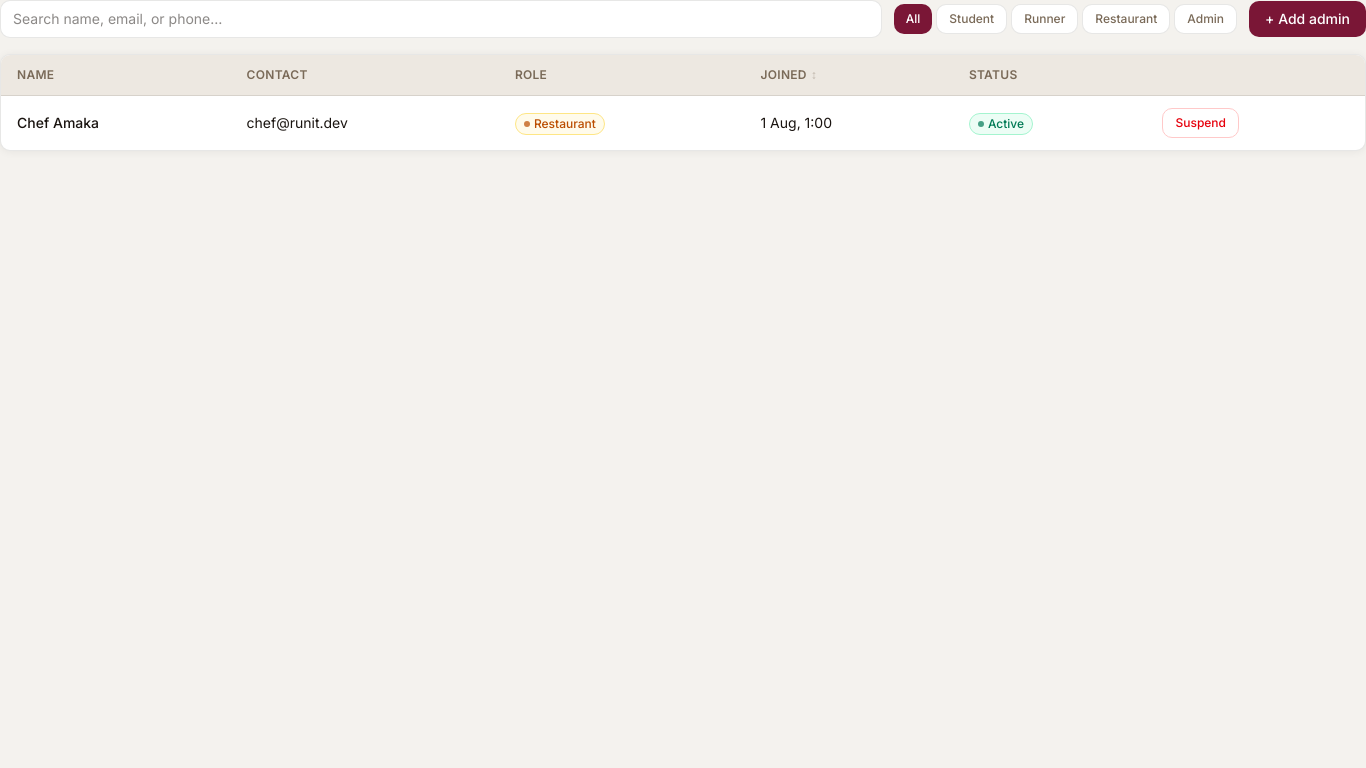
it: Users suspend/reinstate action › suspending requires a reason and posts it, then only updates the row after the response resolves
Click the button "Suspend" at (1201, 123), box [1162,108,1239,138]
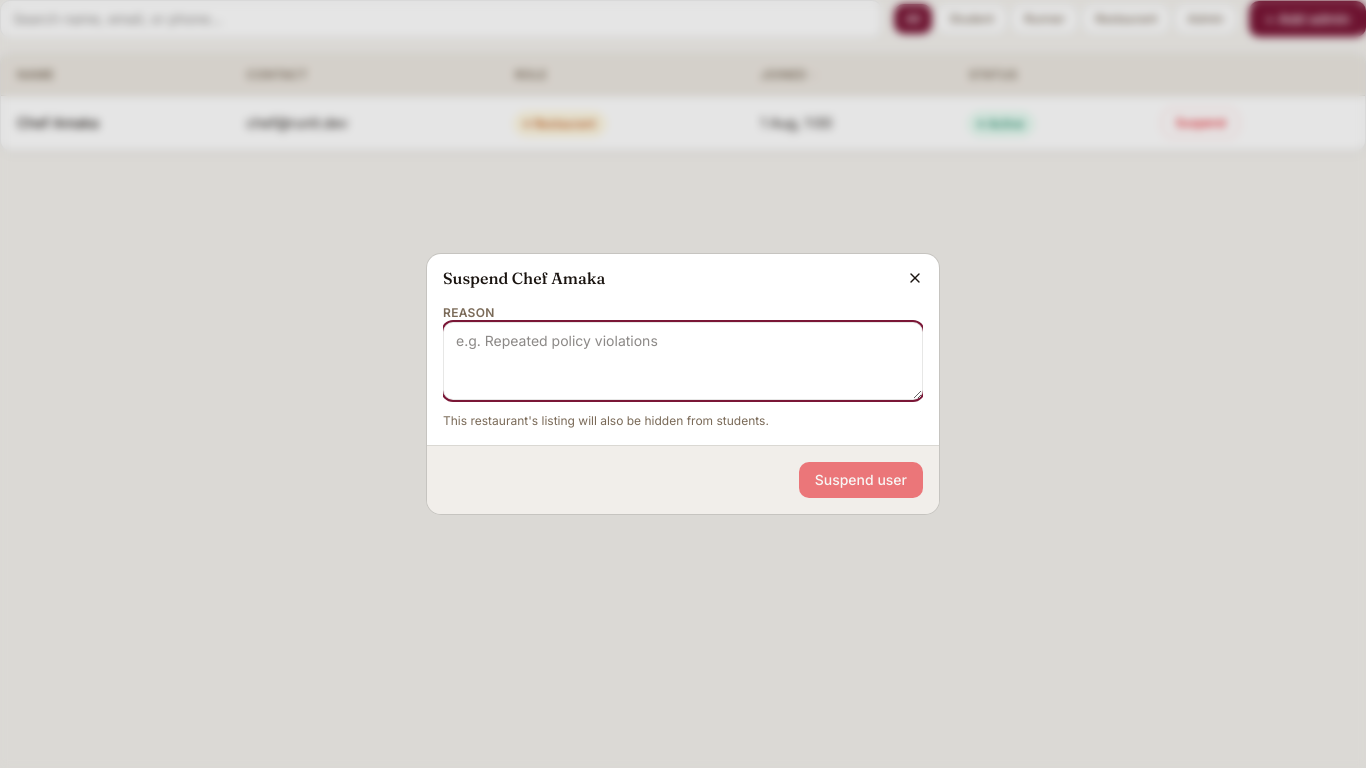
Expected: the button "Suspend user" is disabled, [799,462,923,498]
Expected: the text "This restaurant's listing will also be hidden from students." is shown, [443,413,769,428]
Type "Repeated policy violations" into the text box labelled "Reason" at (683, 361), box [443,322,923,400]
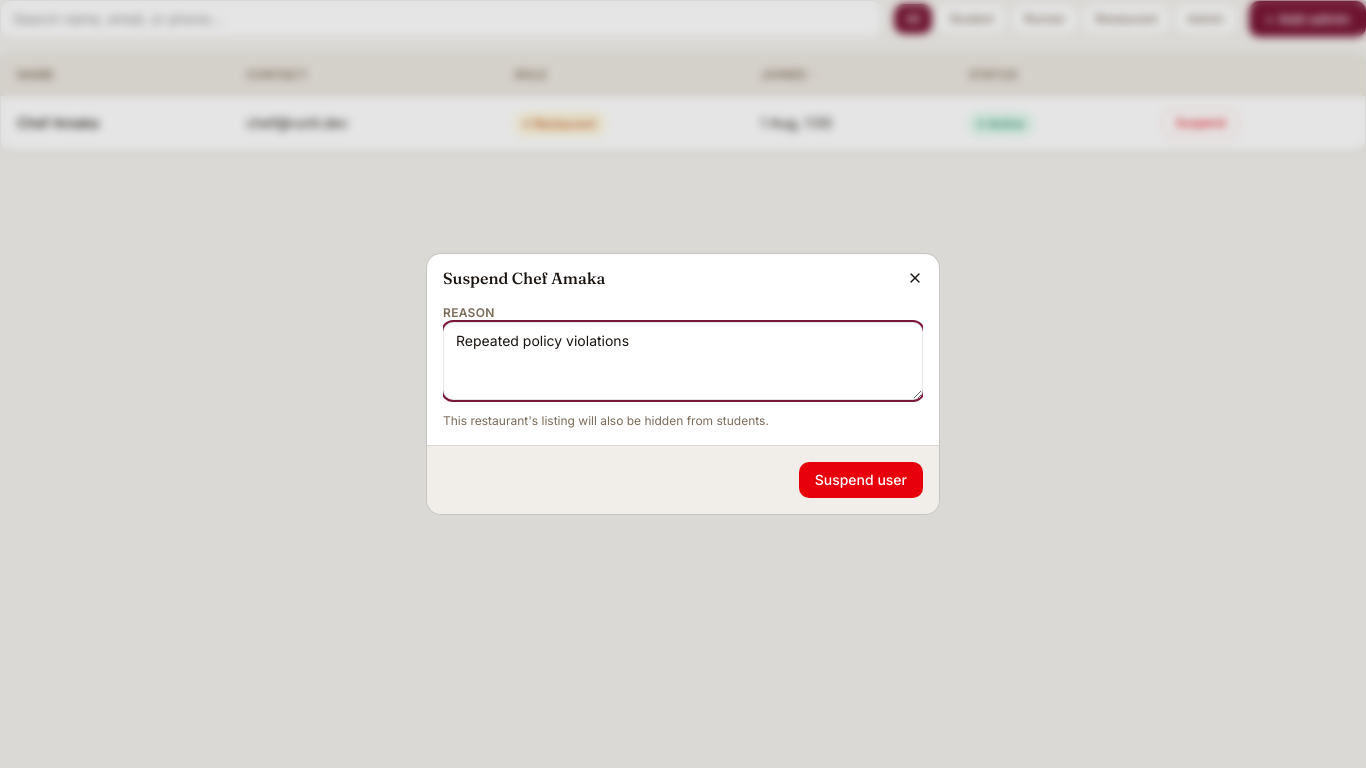
Expected: the button "Suspend user" is enabled
Click the button "Suspend user" at (861, 480), box [799,462,923,498]
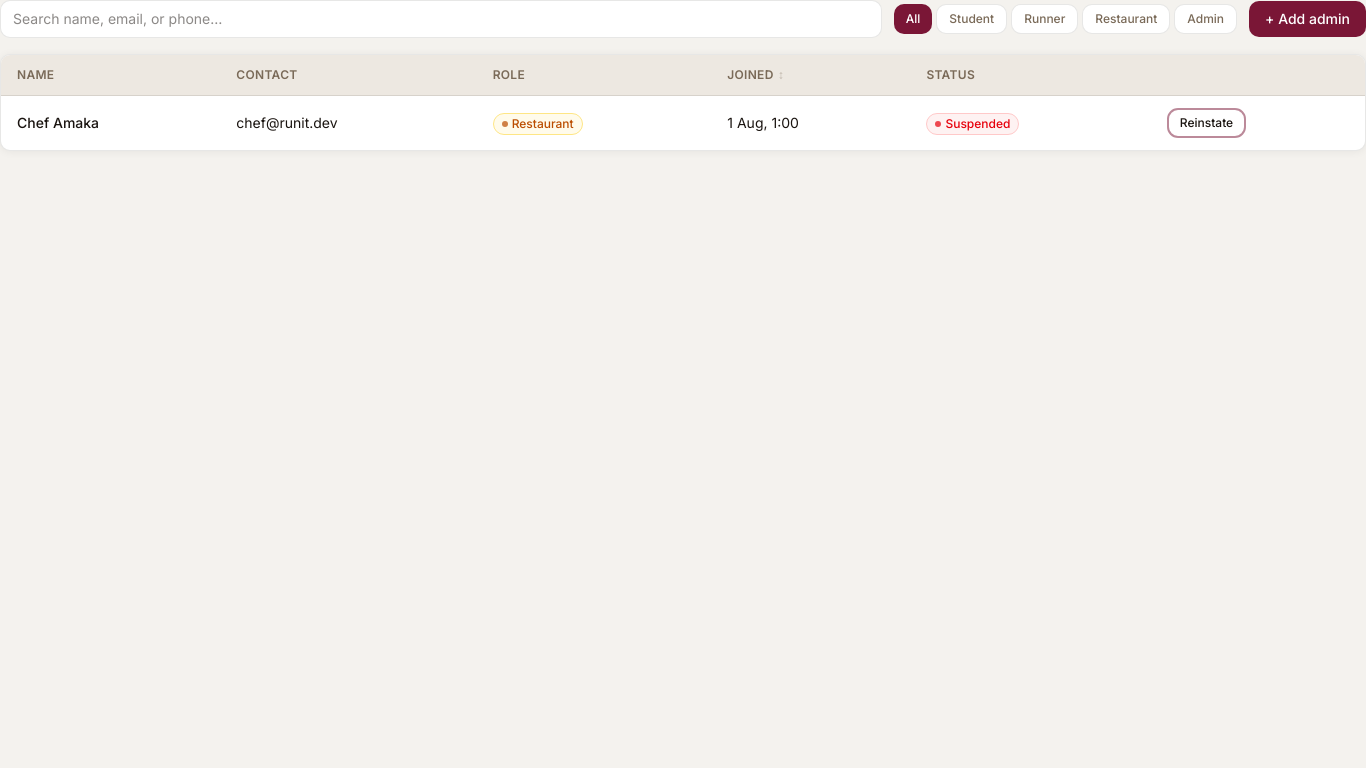
Expected: the text "Suspended" is shown, [926,112,1019,134]
Expected: the button "Reinstate" is shown, [1167,108,1246,138]
